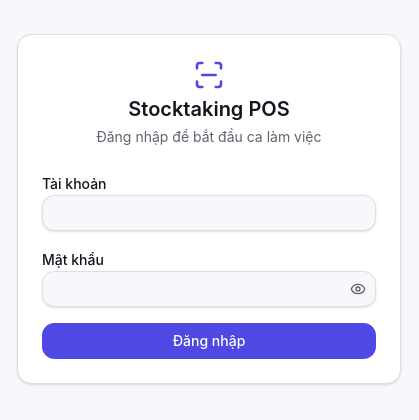
Test: LoginPage › tells a locked-out cashier how long to wait
Type "staff" into the field labelled "Tài khoản" at [209, 213], box [42, 195, 376, 231]
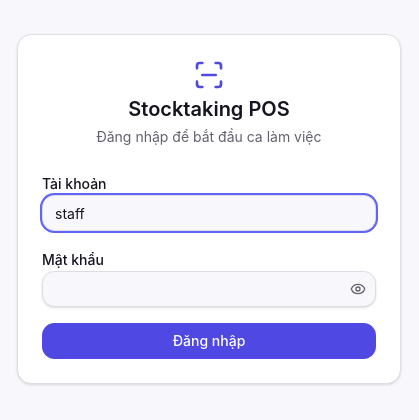
Type "sai" into the password field labelled "Mật khẩu" at [209, 289], box [42, 271, 376, 307]
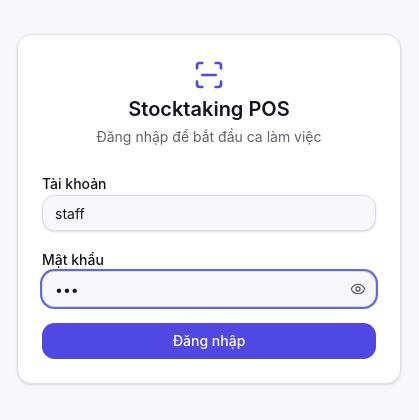
Click the button "Đăng nhập" at [209, 341], box [42, 323, 376, 359]
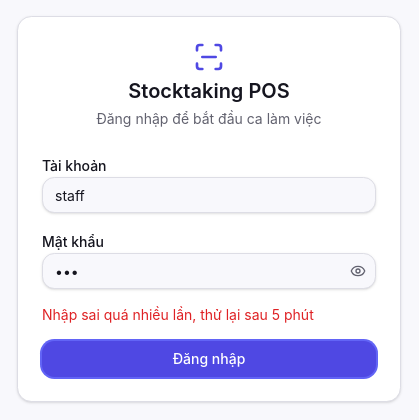
Expected: the message shows "thử lại sau 5 phút", [42, 306, 314, 323]
